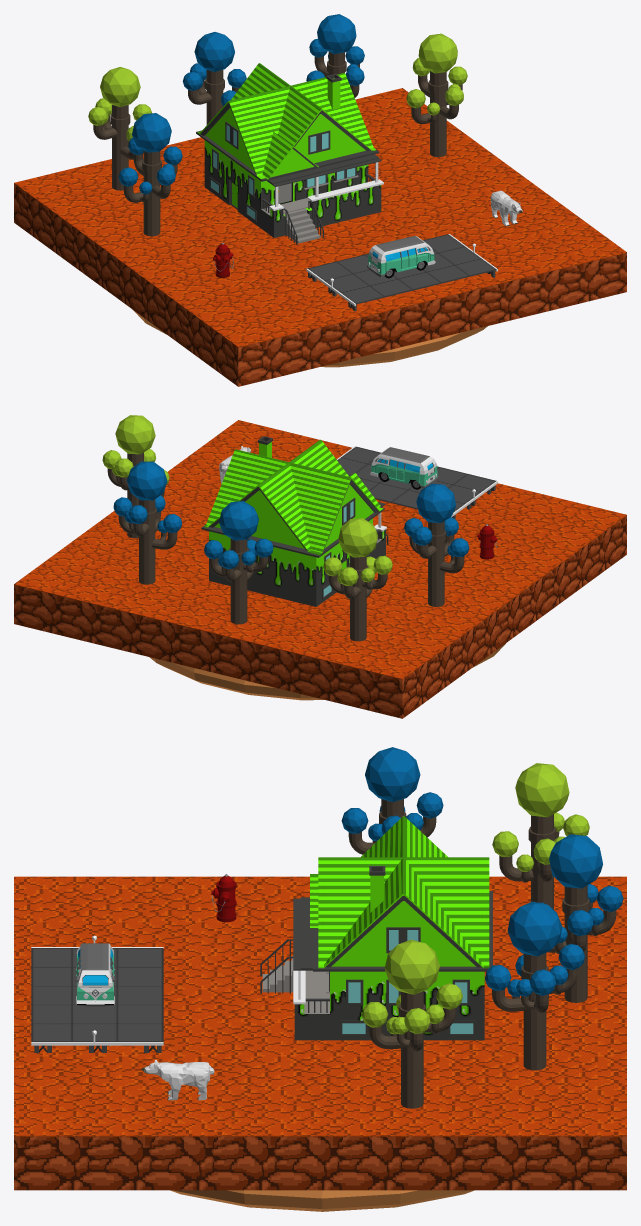
The picture shows the model from 3 angles, top to bottom: view 1: azimuth 30°, elevation 25°; view 2: azimuth 150°, elevation 25°; view 3: azimuth 270°, elevation 25°; orthographic projection. The views are drawn at different scales.
Visible parts, largest first — view 1: Cube.001, Cube.754, VEHICLES_VAN, UNDERGROUND_PIZZA, ANIMAL_OSO_POLAR, OBJRANDOM_FIRE_HYDRANT; view 2: Cube.001, Cube.754, VEHICLES_VAN, UNDERGROUND_PIZZA, OBJRANDOM_FIRE_HYDRANT; view 3: Cube.001, Cube.754, UNDERGROUND_PIZZA, VEHICLES_VAN, ANIMAL_OSO_POLAR, OBJRANDOM_FIRE_HYDRANT.
Part boxes in pixels (x1,y1,x2,y2): Cube.001: (14, 14, 626, 386); Cube.754: (196, 63, 383, 244); VEHICLES_VAN: (367, 236, 435, 278); UNDERGROUND_PIZZA: (132, 309, 487, 367); ANIMAL_OSO_POLAR: (490, 190, 522, 226); OBJRANDOM_FIRE_HYDRANT: (213, 242, 233, 277); Cube.001: (14, 415, 626, 718); Cube.754: (201, 436, 388, 606); VEHICLES_VAN: (370, 447, 438, 489); UNDERGROUND_PIZZA: (149, 643, 505, 700); OBJRANDOM_FIRE_HYDRANT: (477, 524, 497, 559); Cube.001: (14, 747, 626, 1190); Cube.754: (260, 816, 492, 1040); UNDERGROUND_PIZZA: (170, 1190, 474, 1211); VEHICLES_VAN: (75, 943, 115, 1006); ANIMAL_OSO_POLAR: (141, 1059, 214, 1100); OBJRANDOM_FIRE_HYDRANT: (211, 874, 236, 922).
Bounding box in the file's own units: 4000 × 1875 × 4000.
38 materials, 5 textured.
